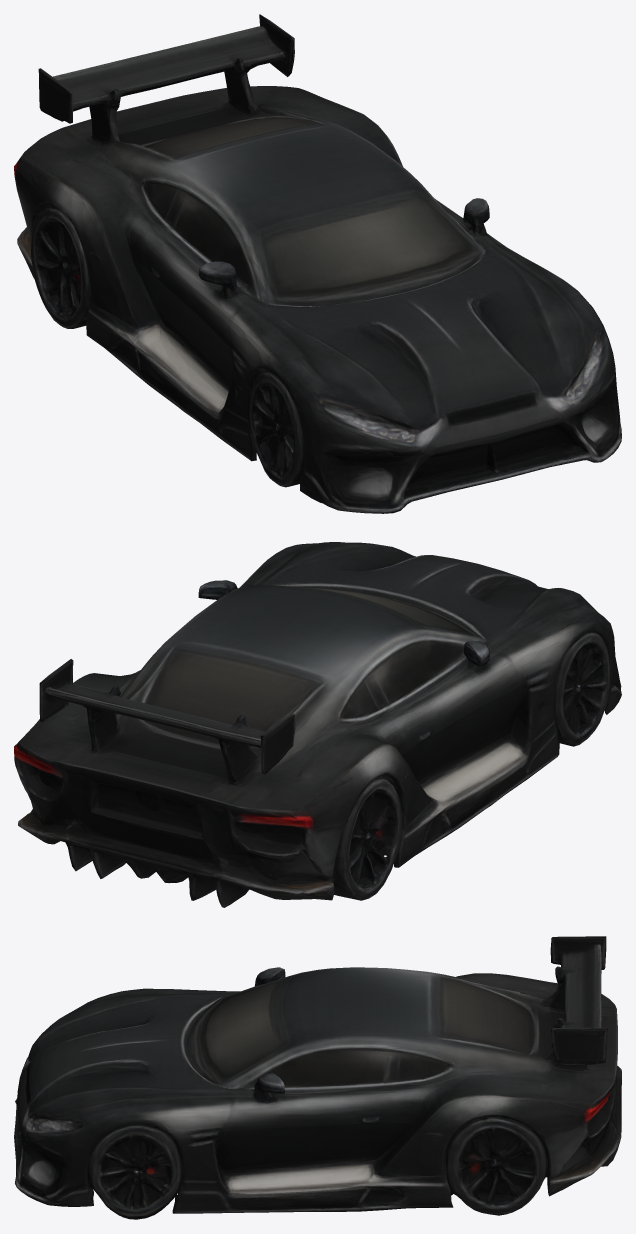
The model's file is 1777813792630_leocar.glb.
The picture shows the model from 3 angles, top to bottom: view 1: azimuth 30°, elevation 25°; view 2: azimuth 150°, elevation 25°; view 3: azimuth 270°, elevation 25°; orthographic projection. The views are drawn at different scales.
Visible parts, largest first — view 1: world; view 2: world; view 3: world.
Boxes of the visible parts, x1,y1,x2,y2 form: world: (14, 14, 621, 513); world: (14, 542, 621, 907); world: (14, 936, 621, 1219).
Size of the model in its own units: 0.5137 by 0.3187 by 0.9992.
Materials: 1 (1 with a texture image).
